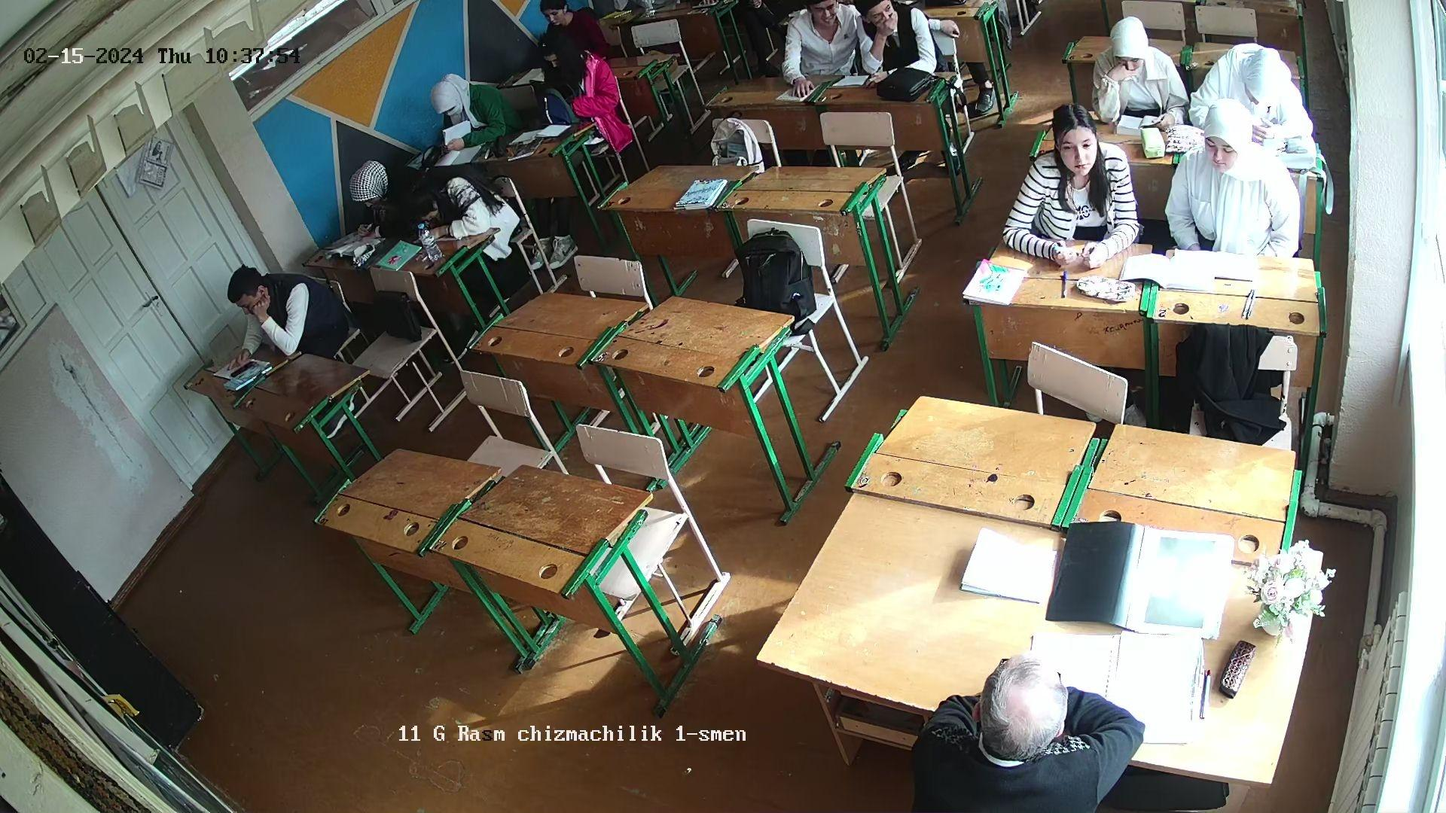Bend Over The Desk: (410, 179, 488, 242)
Hand Under Table: (1171, 206, 1201, 254)
Look Around: (855, 1, 902, 50), (798, 0, 846, 37)
Normal: (1017, 102, 1103, 276), (1104, 19, 1177, 125)
phone: (222, 348, 262, 381)
